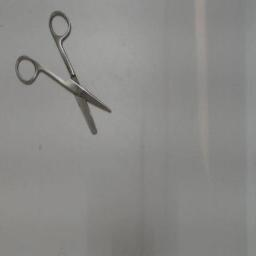Dressing Scissors: (10, 6, 114, 144)
